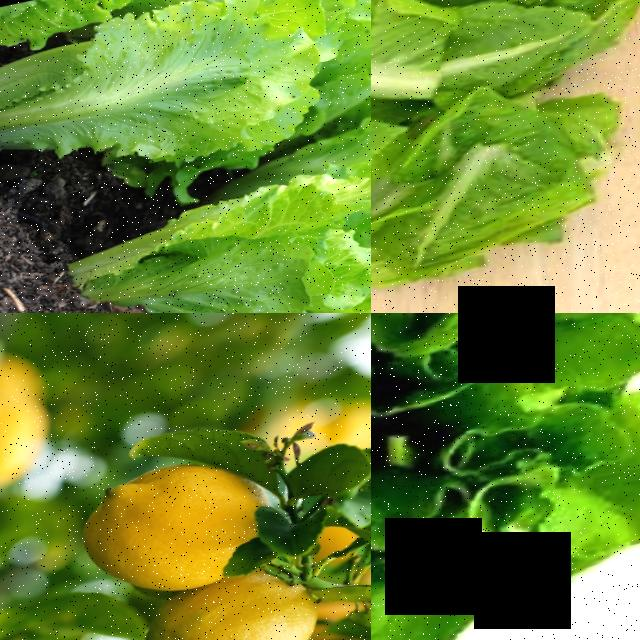lemon: (69, 450, 275, 612), (140, 567, 336, 640)
lettuce: (371, 313, 640, 640), (371, 0, 640, 313), (77, 0, 371, 185), (202, 107, 371, 313)
